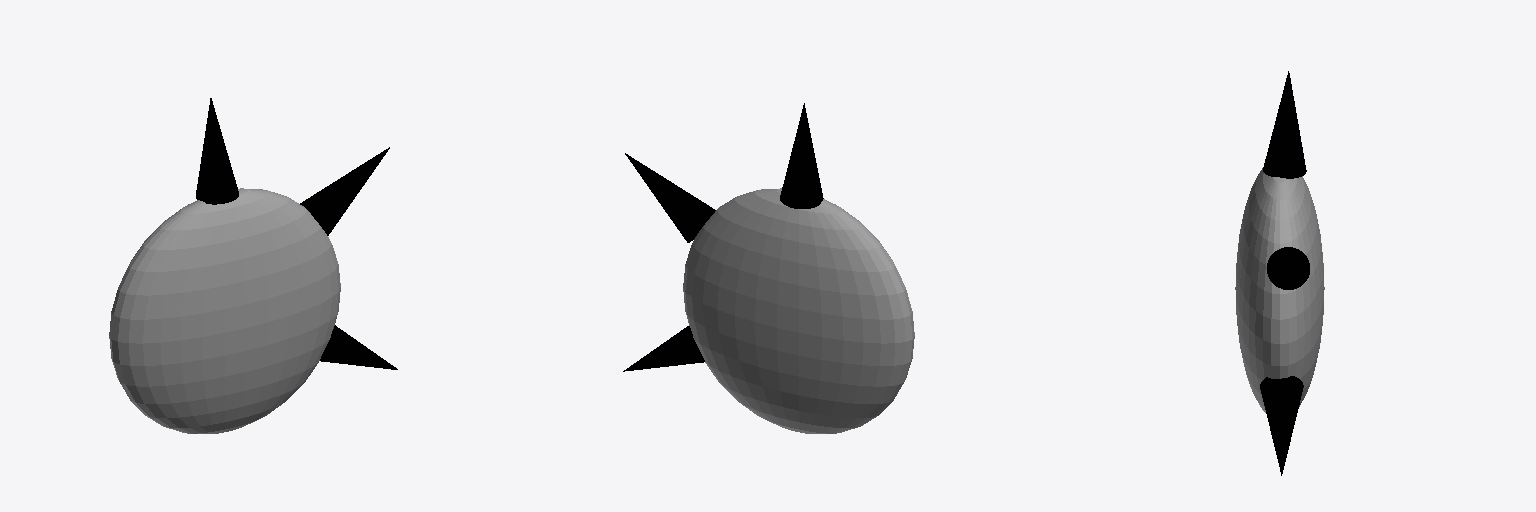
The model's file is Bear_RightHand.obj.
3 views of the same model, side by side, from view 1: azimuth 30°, elevation 25°; view 2: azimuth 150°, elevation 25°; view 3: azimuth 270°, elevation 25° (orthographic).
Parts seen in each view (by area): view 1: Sphere.008, Cone, Cone.001, Cone.002; view 2: Sphere.008, Cone, Cone.001, Cone.002; view 3: Sphere.008, Cone, Cone.002, Cone.001.
Part boxes in pixels (bbox=[...]): Sphere.008: bbox=[109, 188, 340, 433]; Cone: bbox=[196, 98, 238, 204]; Cone.001: bbox=[300, 147, 389, 235]; Cone.002: bbox=[320, 325, 397, 369]; Sphere.008: bbox=[683, 188, 914, 433]; Cone: bbox=[780, 103, 823, 208]; Cone.001: bbox=[625, 153, 715, 242]; Cone.002: bbox=[623, 326, 704, 371]; Sphere.008: bbox=[1235, 168, 1324, 412]; Cone: bbox=[1263, 71, 1306, 178]; Cone.002: bbox=[1260, 376, 1303, 475]; Cone.001: bbox=[1267, 247, 1309, 289].
Size of the model in its own units: 0.592 by 0.6527 by 0.1579.